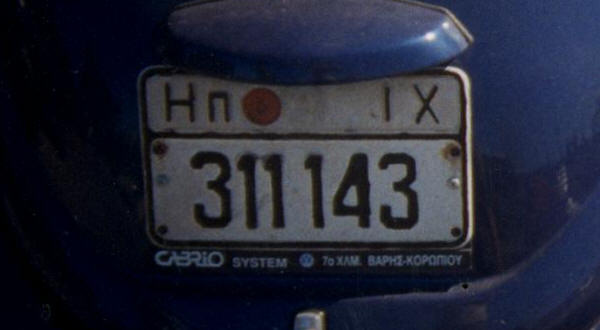license_plate: (139, 64, 474, 250)
